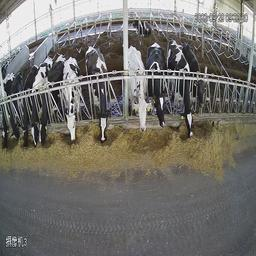cow: (83, 46, 114, 141), (168, 36, 195, 136), (37, 55, 64, 145), (128, 46, 149, 132), (63, 55, 83, 145), (149, 43, 167, 125), (191, 44, 208, 110), (10, 69, 20, 149), (0, 68, 9, 148), (22, 65, 30, 148), (28, 72, 35, 149), (128, 17, 152, 36)
